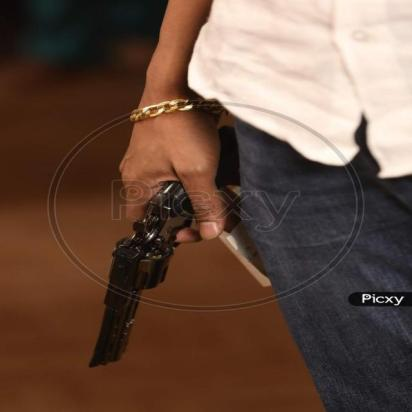Gun: (77, 125, 270, 374)
